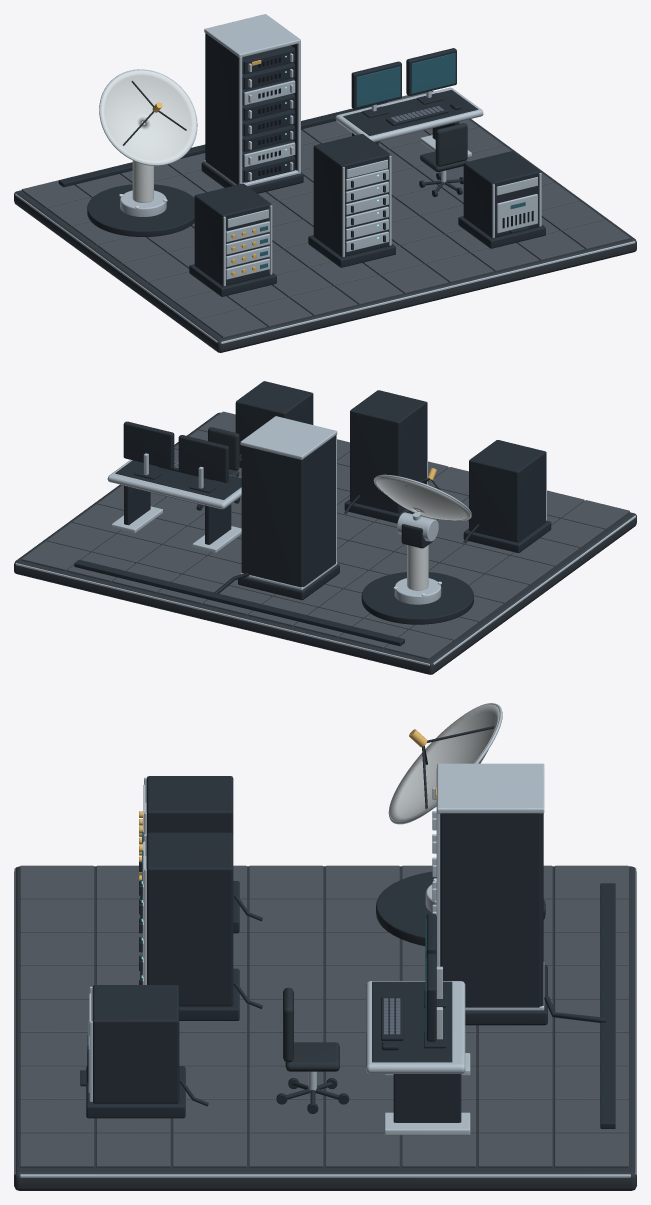
Rendered from ground.glb.
3 views of the same model, one above another, from view 1: azimuth 30°, elevation 25°; view 2: azimuth 150°, elevation 25°; view 3: azimuth 270°, elevation 25° (orthographic). The views are drawn at different scales.
Visible parts, largest first — view 1: Floor — Raised-floor panels as drawn, Process — Black anodized aluminum, Floor — Satin graphite raised floor, Receive — Pale radiator finish.001, Archive — Black anodized aluminum, Process — Machined aluminum, Receiver — Black anodized aluminum, Power — Black anodized aluminum, Operations — Black anodized aluminum, Archive — Machined aluminum, Receive — Black anodized aluminum, Operations — Blank illustrative monitor glass (+10 smaller); view 2: Floor — Raised-floor panels as drawn, Process — Black anodized aluminum, Floor — Satin graphite raised floor, Archive — Black anodized aluminum, Receiver — Black anodized aluminum, Operations — Black anodized aluminum, Receive — Black anodized aluminum, Floor — Black anodized aluminum, Power — Black anodized aluminum, Process — Machined aluminum, Operations — Machined aluminum, Receive — Pale radiator finish.001 (+4 smaller); view 3: Floor — Raised-floor panels as drawn, Process — Black anodized aluminum, Floor — Satin graphite raised floor, Archive — Black anodized aluminum, Power — Black anodized aluminum, Operations — Black anodized aluminum, Process — Machined aluminum, Receiver — Black anodized aluminum, Operations — Machined aluminum, Receive — Pale radiator finish.001, Floor — Black anodized aluminum, Floor — Machined aluminum (+3 smaller).
Part boxes in pixels (x1=…): Floor — Raised-floor panels as drawn: x1=21, y1=92, x2=629, y2=338; Process — Black anodized aluminum: x1=201, y1=33, x2=303, y2=193; Floor — Satin graphite raised floor: x1=14, y1=91, x2=636, y2=352; Receive — Pale radiator finish.001: x1=101, y1=70, x2=196, y2=163; Archive — Black anodized aluminum: x1=308, y1=134, x2=395, y2=267; Process — Machined aluminum: x1=204, y1=14, x2=300, y2=186; Receiver — Black anodized aluminum: x1=189, y1=183, x2=276, y2=296; Power — Black anodized aluminum: x1=458, y1=151, x2=545, y2=248; Operations — Black anodized aluminum: x1=343, y1=48, x2=478, y2=196; Archive — Machined aluminum: x1=342, y1=155, x2=391, y2=256; Receive — Black anodized aluminum: x1=87, y1=184, x2=194, y2=236; Operations — Blank illustrative monitor glass: x1=356, y1=53, x2=455, y2=107; Floor — Raised-floor panels as drawn: x1=21, y1=411, x2=629, y2=659; Process — Black anodized aluminum: x1=214, y1=435, x2=339, y2=600; Floor — Satin graphite raised floor: x1=14, y1=412, x2=636, y2=674; Archive — Black anodized aluminum: x1=344, y1=390, x2=426, y2=523; Receiver — Black anodized aluminum: x1=463, y1=440, x2=551, y2=552; Operations — Black anodized aluminum: x1=115, y1=421, x2=241, y2=544; Receive — Black anodized aluminum: x1=361, y1=524, x2=473, y2=624; Floor — Black anodized aluminum: x1=74, y1=559, x2=404, y2=646; Power — Black anodized aluminum: x1=235, y1=381, x2=312, y2=467; Process — Machined aluminum: x1=240, y1=416, x2=337, y2=589; Operations — Machined aluminum: x1=107, y1=453, x2=241, y2=552; Receive — Pale radiator finish.001: x1=375, y1=477, x2=469, y2=520; Floor — Raised-floor panels as drawn: x1=20, y1=865, x2=628, y2=1167; Process — Black anodized aluminum: x1=440, y1=813, x2=606, y2=1025; Floor — Satin graphite raised floor: x1=14, y1=866, x2=636, y2=1190; Archive — Black anodized aluminum: x1=139, y1=832, x2=262, y2=1020; Power — Black anodized aluminum: x1=80, y1=985, x2=208, y2=1118; Operations — Black anodized aluminum: x1=276, y1=913, x2=461, y2=1122; Process — Machined aluminum: x1=432, y1=763, x2=544, y2=1010; Receiver — Black anodized aluminum: x1=140, y1=776, x2=262, y2=933; Operations — Machined aluminum: x1=308, y1=966, x2=470, y2=1135; Receive — Pale radiator finish.001: x1=389, y1=704, x2=499, y2=821; Floor — Black anodized aluminum: x1=600, y1=883, x2=615, y2=1128; Floor — Machined aluminum: x1=14, y1=868, x2=636, y2=1177.
Size of the model in its own units: 8.1 by 2.93 by 6.9.
